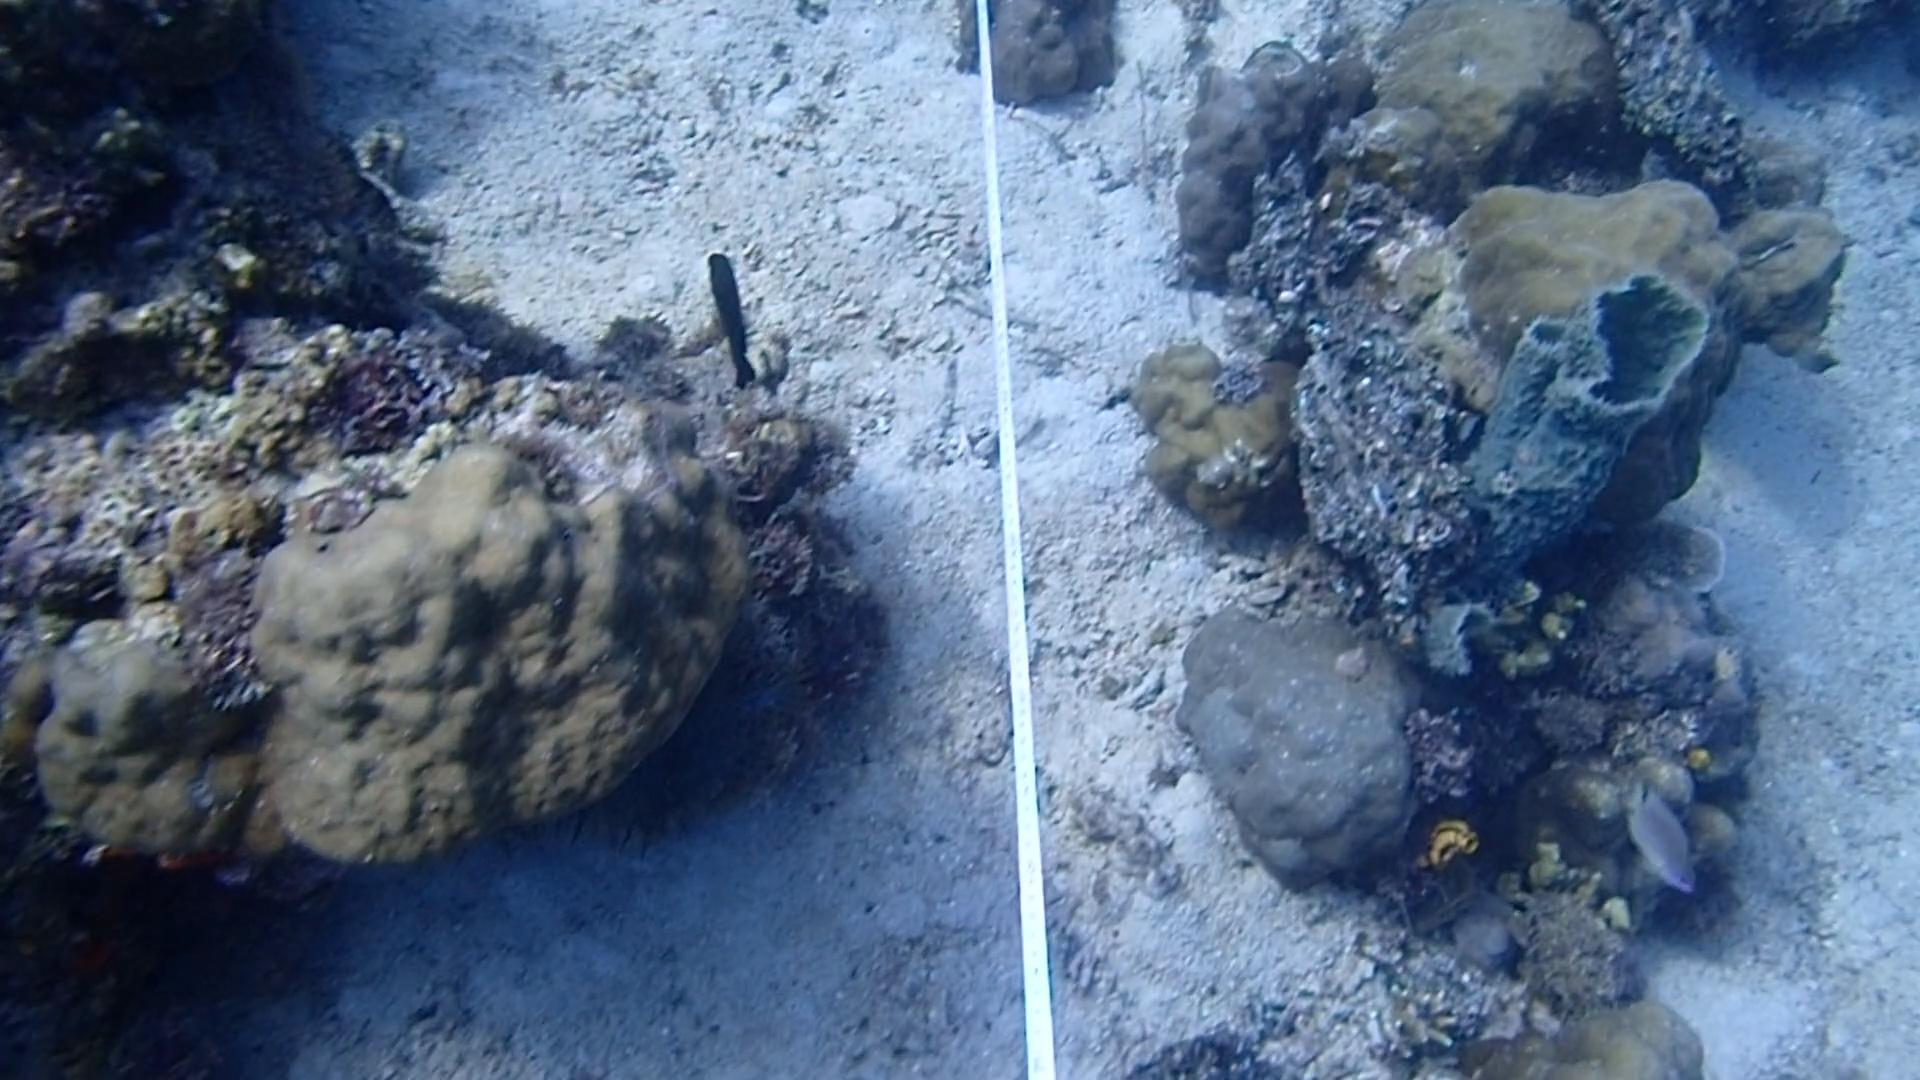Blue Nose Fish: (1622, 775, 1717, 898)
Dark Fish: (702, 249, 766, 389)
